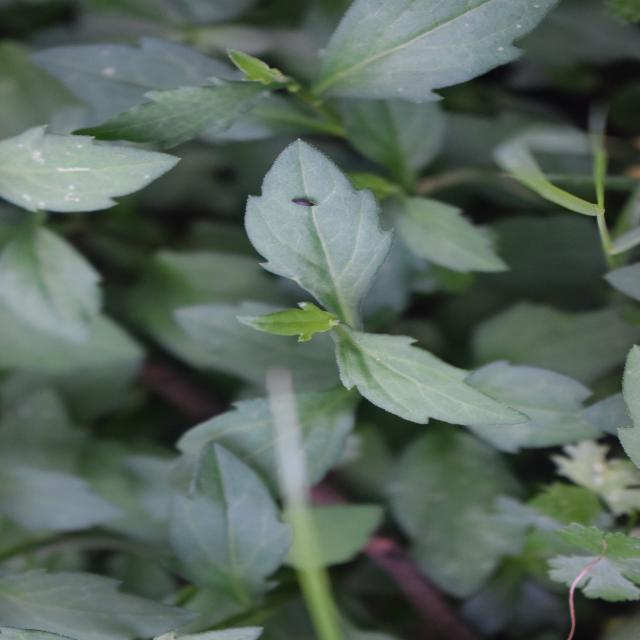Indian aster: (157, 147, 494, 534)
